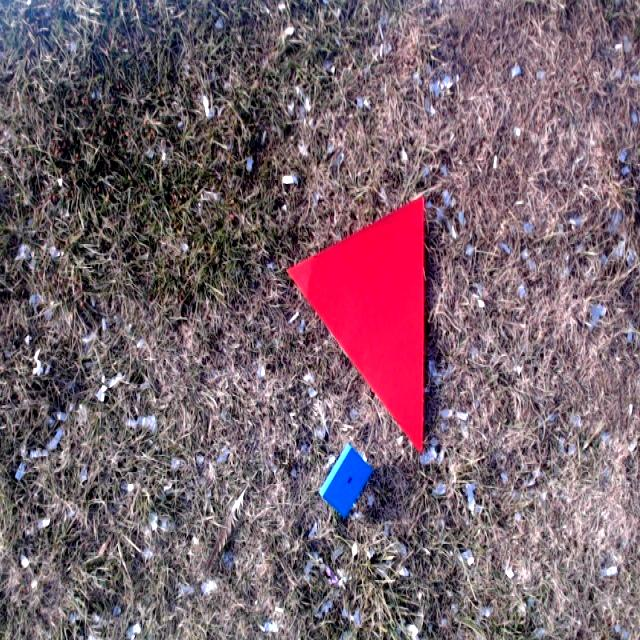red_triangle: (286, 197, 425, 456)
